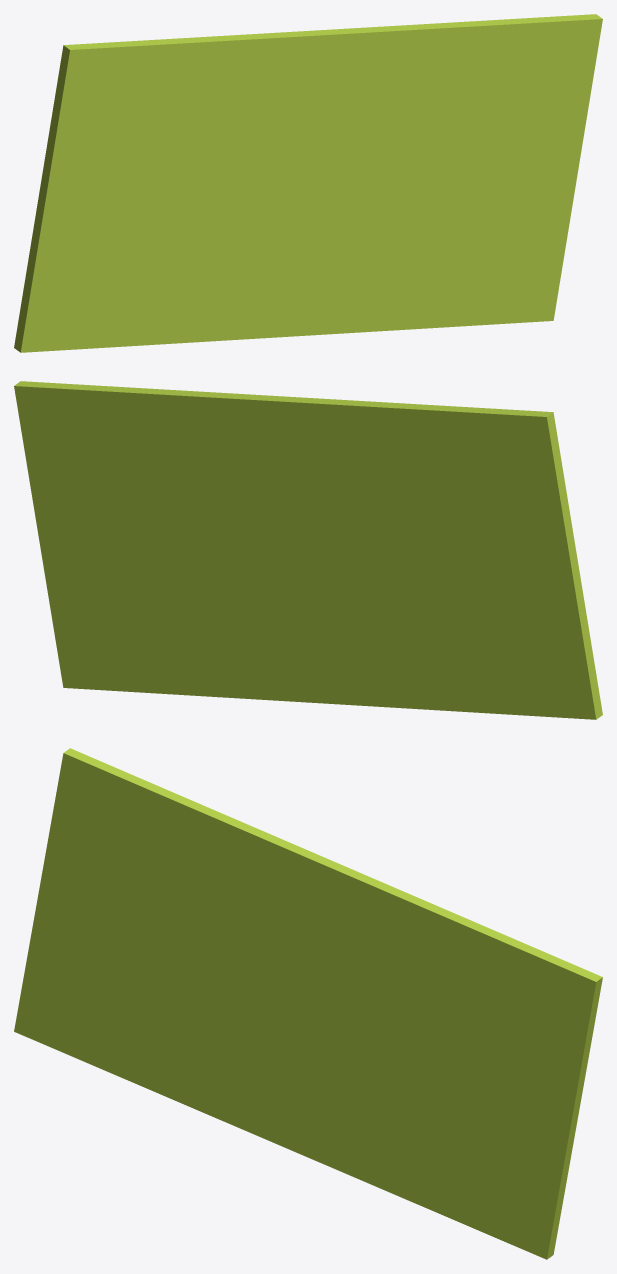
3 renders of one model, top to bottom at view 1: azimuth 30°, elevation 25°; view 2: azimuth 150°, elevation 25°; view 3: azimuth 330°, elevation 25°, orthographic.
Parts seen in each view (by area): view 1: osm-way27917482-F-1; view 2: osm-way27917482-F-1; view 3: osm-way27917482-F-1.
Boxes of the visible parts, left/top/right/bottom form: osm-way27917482-F-1: left=14, top=14, right=602, bottom=352; osm-way27917482-F-1: left=14, top=381, right=602, bottom=719; osm-way27917482-F-1: left=14, top=748, right=602, bottom=1259.
Size of the model in its own units: 7.53 by 4.8 by 0.15.
